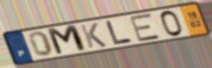0: (28, 31, 55, 59), (160, 9, 185, 38)
E: (129, 12, 163, 43)
K: (78, 22, 109, 50)
L: (104, 20, 135, 46)
M: (44, 23, 89, 57)
